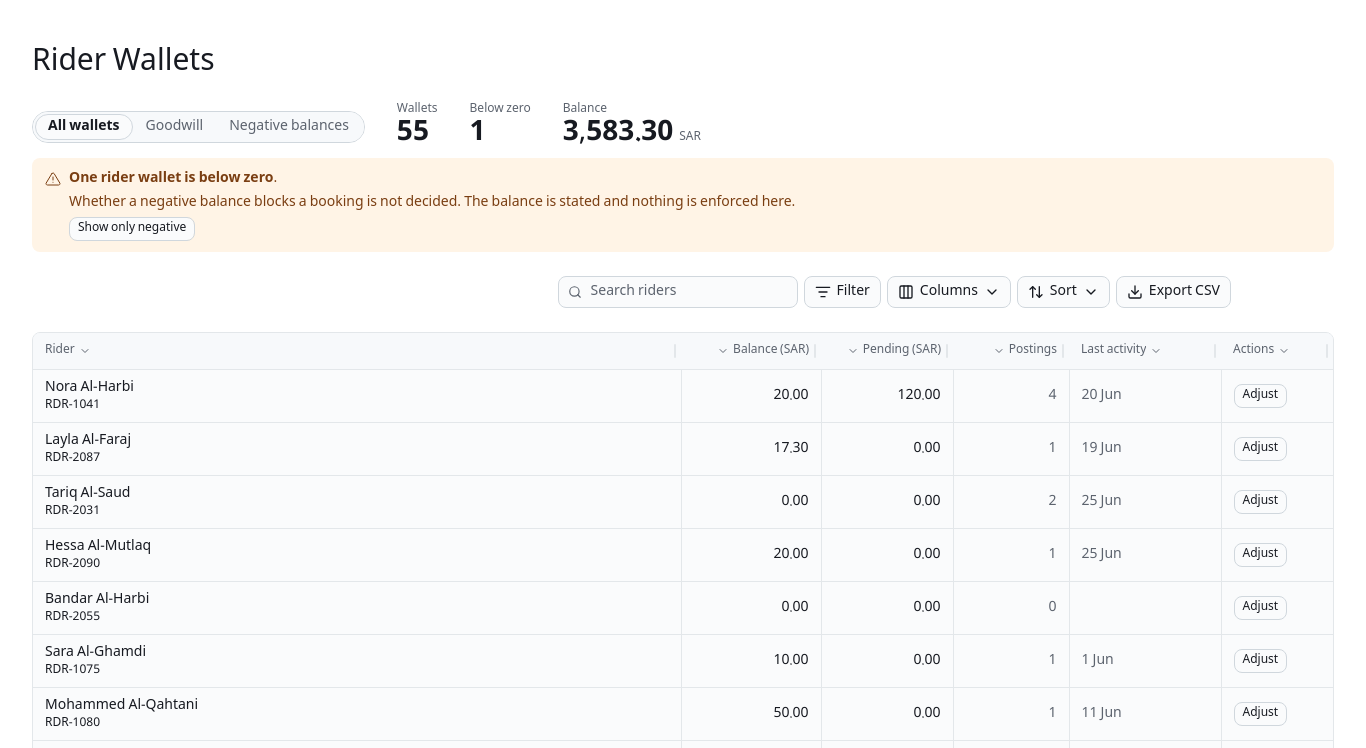
Test case: AC-382 — the index is an index and the ledger behind it is a ledger › selection, sort and filters exist on the index and none of them on the ledger
The width and height of the screenshot is (1366, 748).
Check: the button "Sort" is shown, box [1017,276,1110,308]
Check: the button "Filter" is shown, box [804,276,881,308]
Click the link "Nora Al-Harbi": (89, 388) [45,376,134,400]
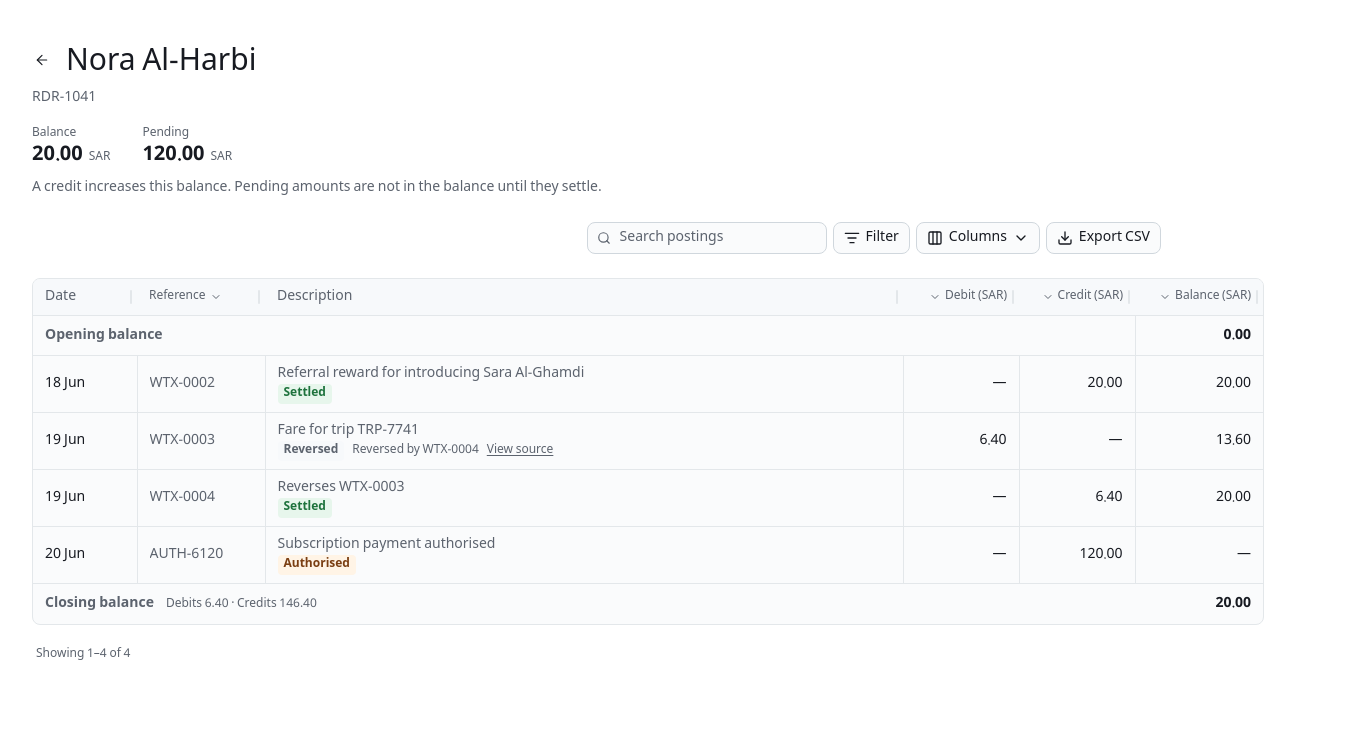
Check: the text "Opening balance" is shown, box [45,324,163,348]
Check: the button "Sort" is gone
